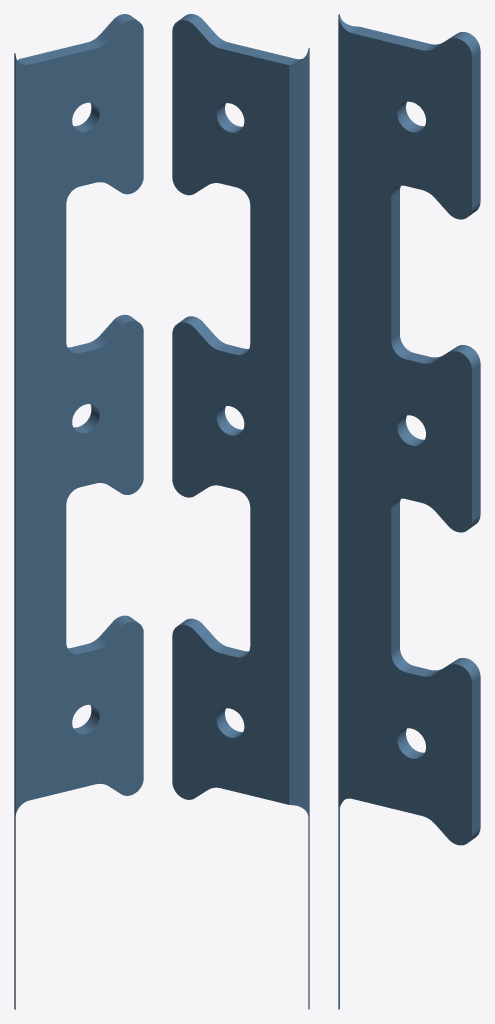
File: door-right-flap.glb
3 renders of one model, left to right at view 1: azimuth 30°, elevation 25°; view 2: azimuth 150°, elevation 25°; view 3: azimuth 330°, elevation 25°, orthographic. The views are drawn at different scales.
Visible parts, largest first — view 1: door-right-flap; view 2: door-right-flap; view 3: door-right-flap.
Boxes of the visible parts, x1,y1,x2,y2 form: door-right-flap: [14, 14, 143, 1009]; door-right-flap: [172, 14, 309, 1009]; door-right-flap: [338, 14, 480, 1009].
Size of the model in its own units: 107 by 769 by 12.
